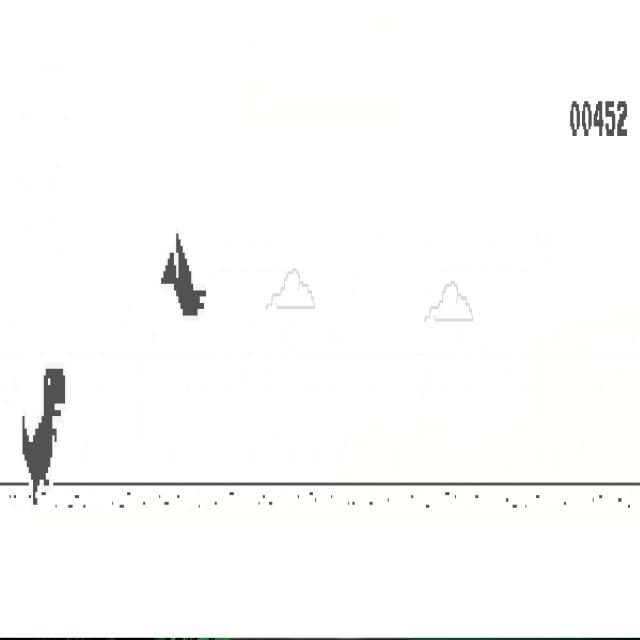dino: (22, 368, 66, 507)
ptero: (161, 231, 207, 317)
